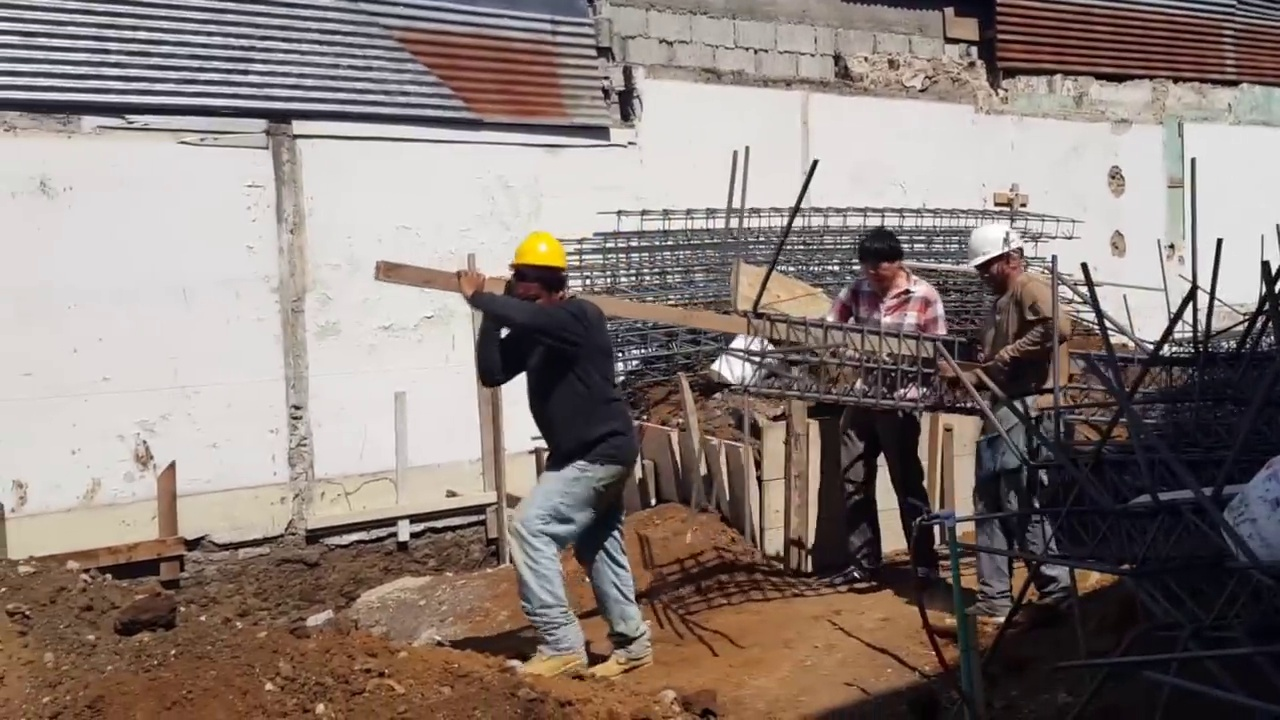helmet: (964, 222, 1023, 269), (505, 235, 569, 277)
helmet-off: (857, 229, 911, 294)
helmet-on: (503, 235, 569, 307), (964, 226, 1025, 297)
person: (447, 235, 640, 704), (945, 227, 1076, 624), (826, 221, 959, 590)
